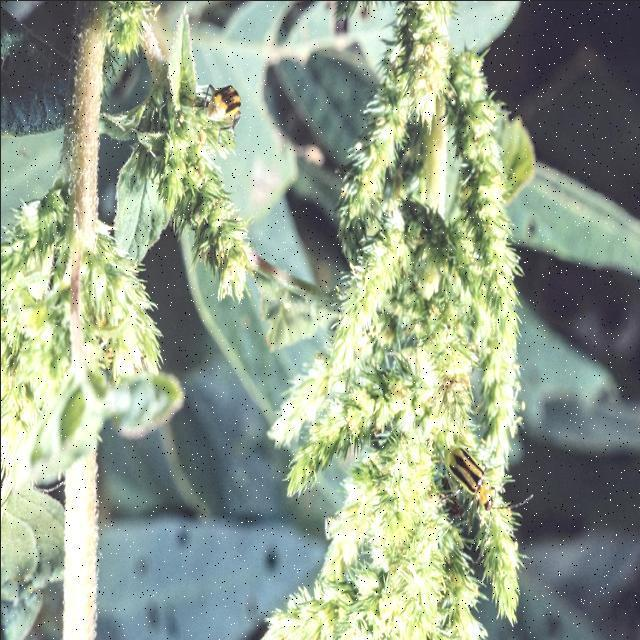trips: (448, 448, 532, 514), (200, 82, 240, 139)
